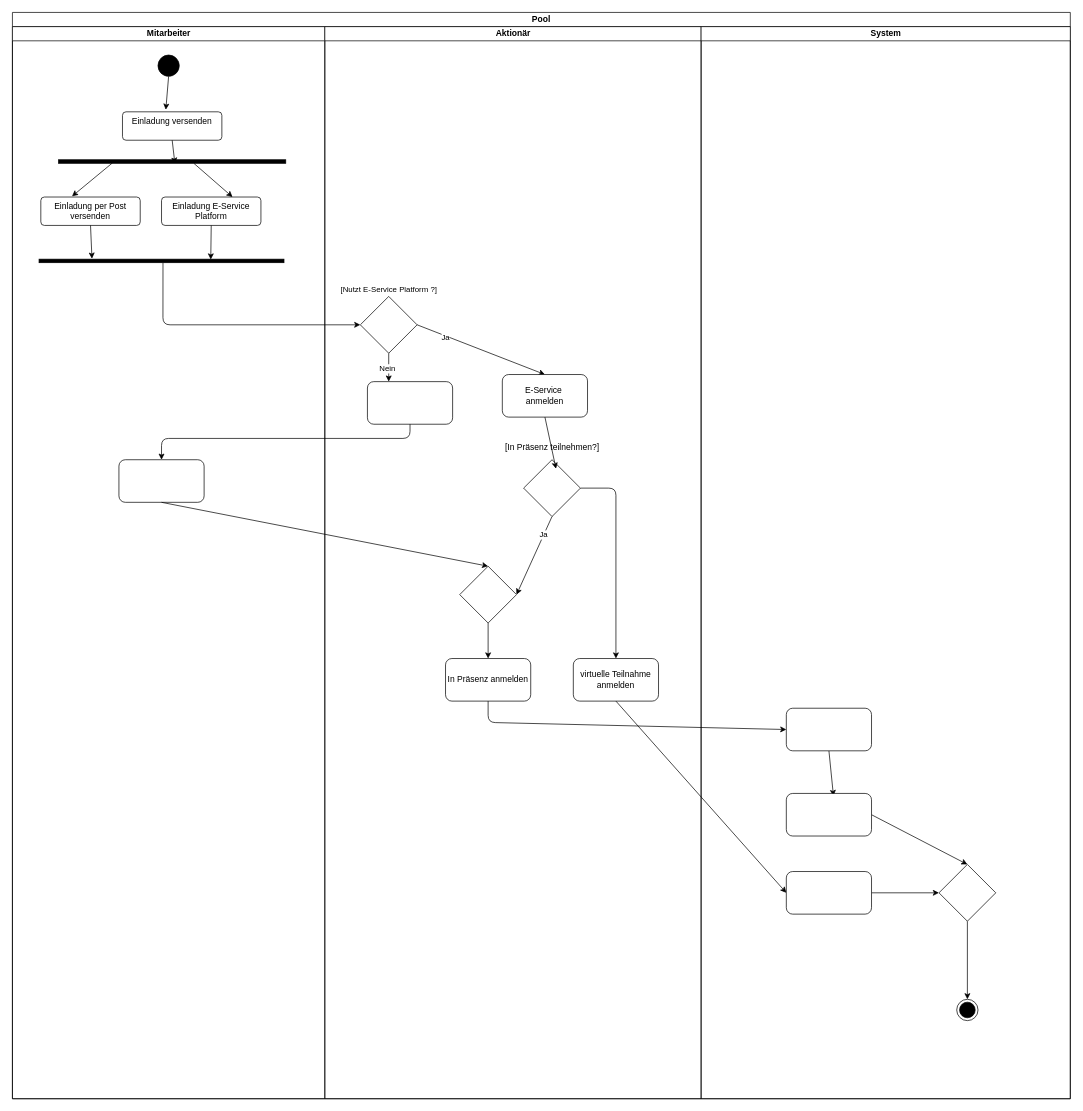
Image size: 1083x1111. Some labels were removed from this diagram. Each missing label, with the centre of its shape:
Erfassung: (x=161, y=480)
Per Post anmelden: (x=410, y=402)
PLatzkarten und Tagesordnung versenden: (x=829, y=814)
Plaz reservieren: (x=829, y=729)
Zugangsdaten und Tagesordnung versenden: (x=829, y=892)
